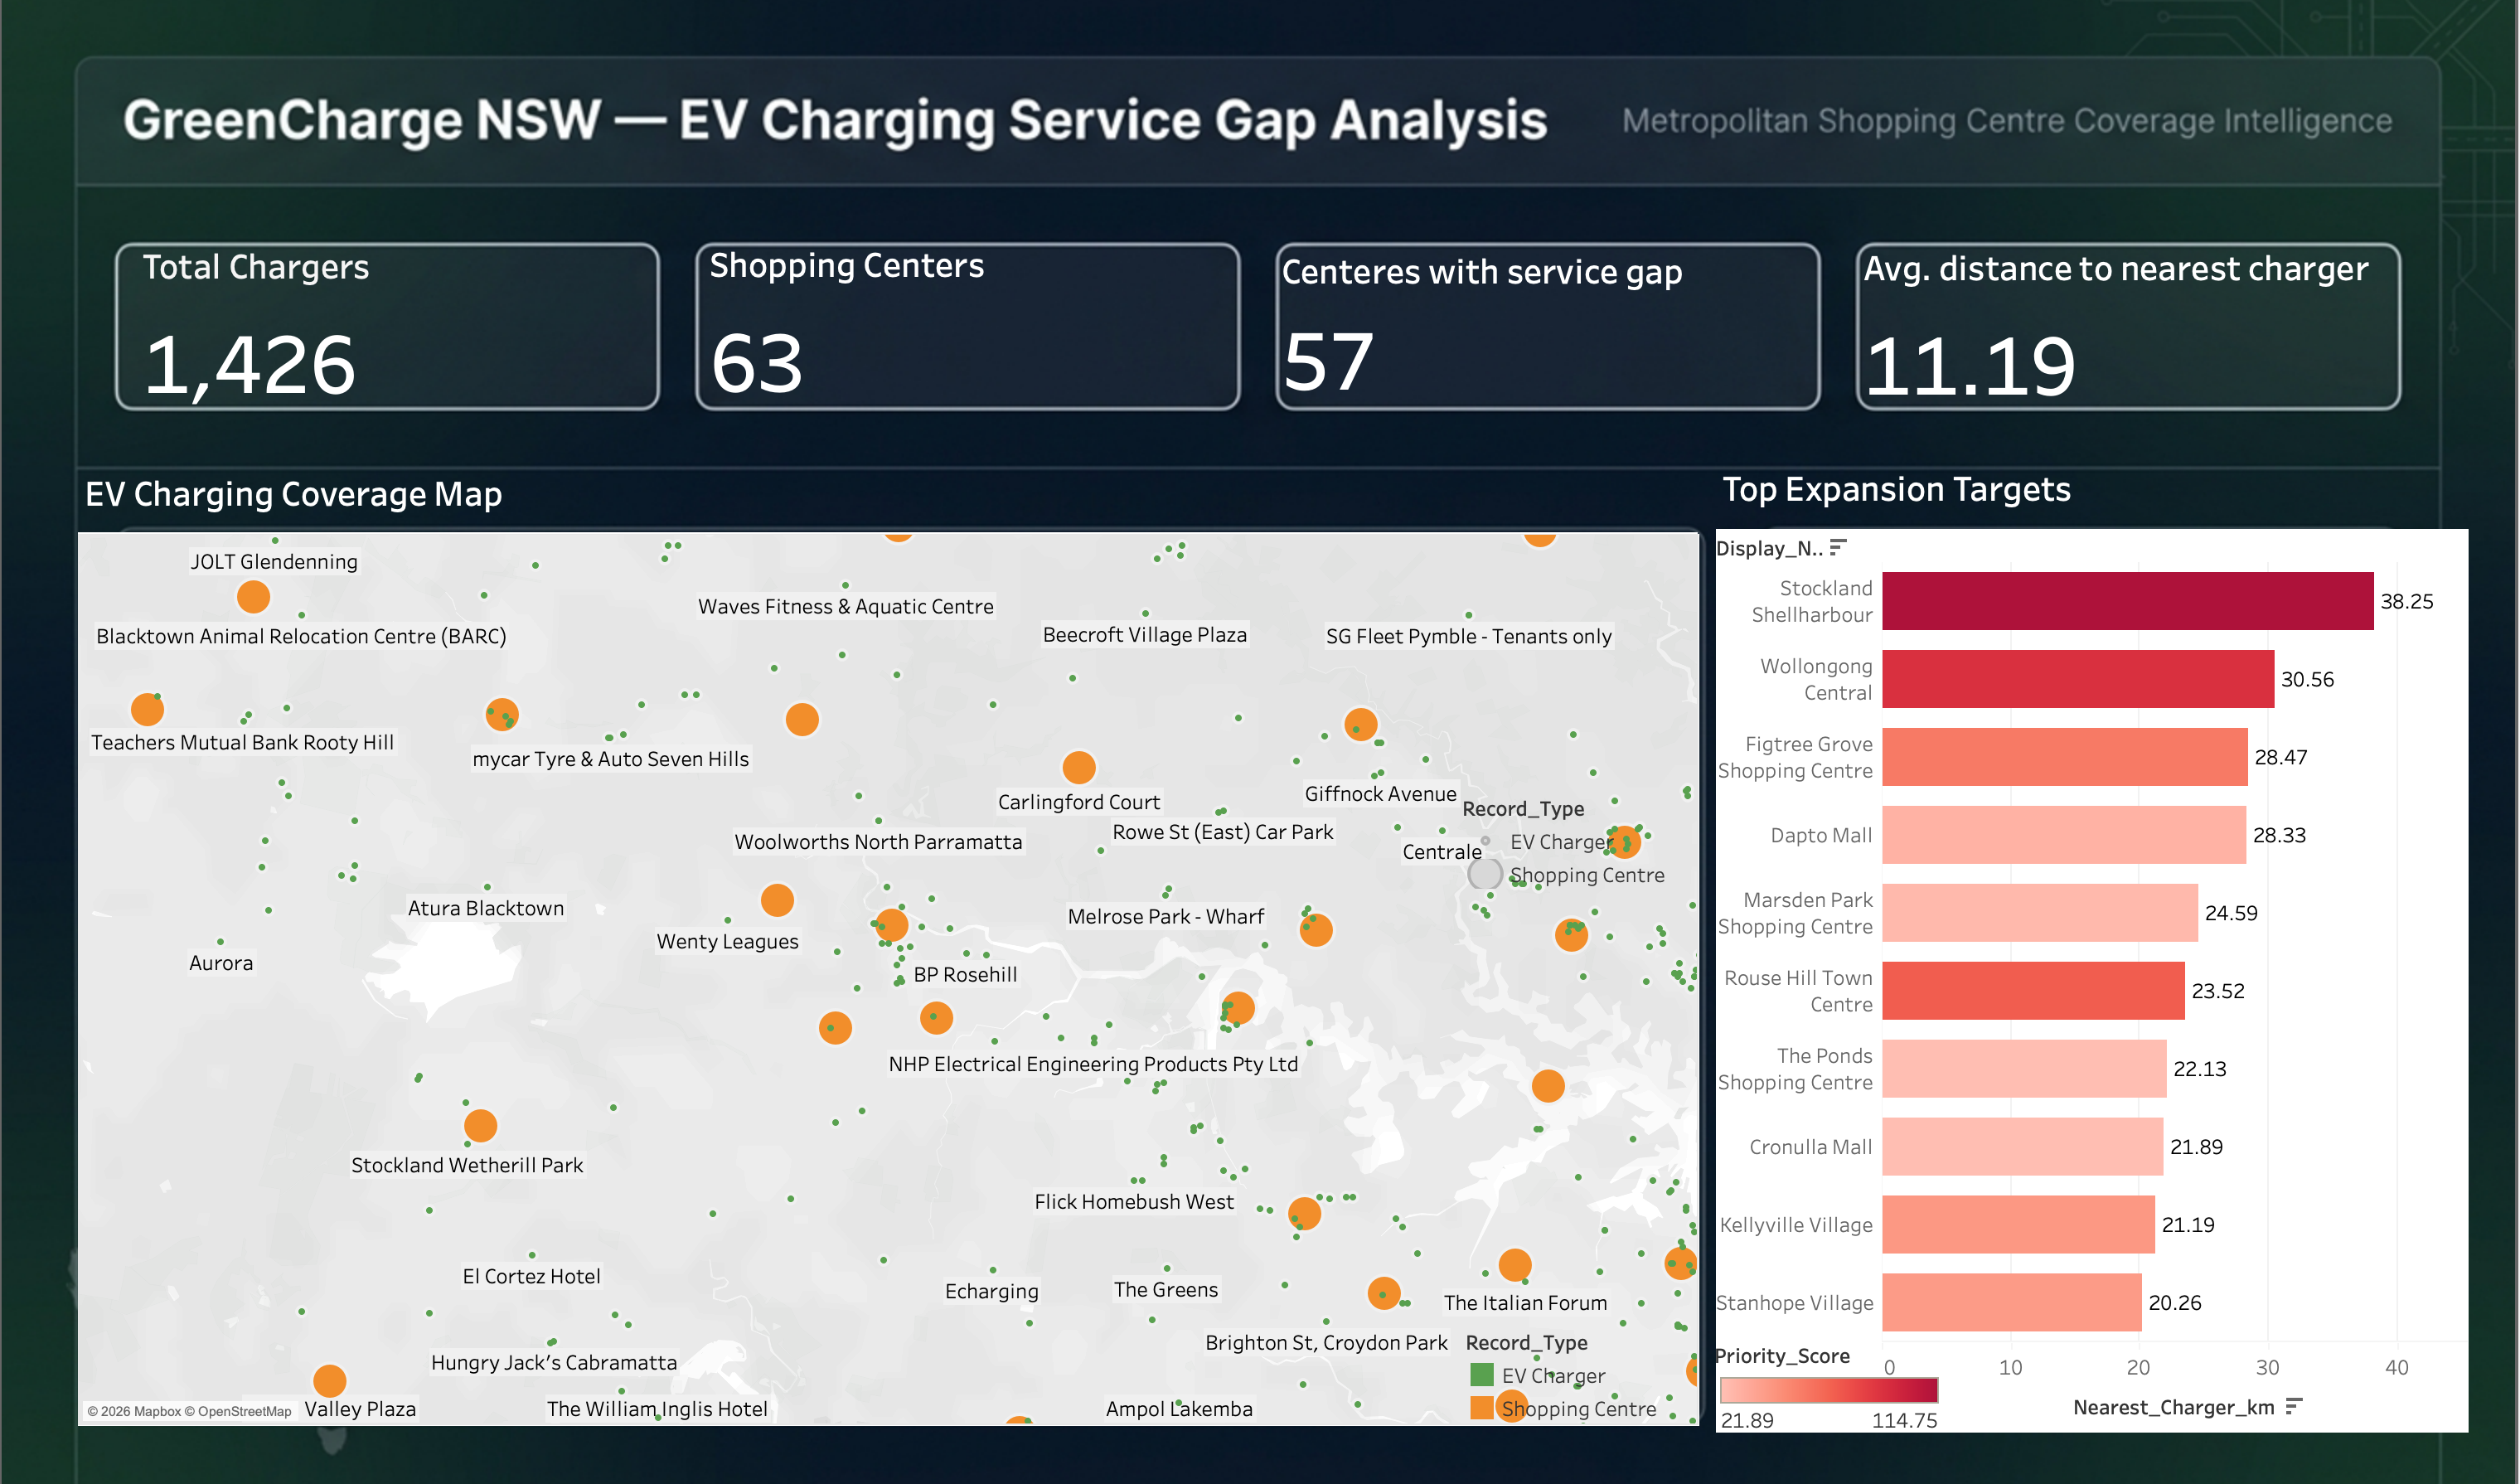

Layout of this report page (visuals, bound fields, positions):
{"tool":"tableau","page":{"name":"Dashboard 1","canvas":[1200,3000],"ordinal":0},"visuals":[{"type":"worksheet","title":"KPI 2- Shopping Centers","mark":"Automatic","box":[426,184,400,118]},{"type":"worksheet","title":" KPI 1- Total Chargers","mark":"Text","box":[84,185,289,112]},{"type":"worksheet","title":"KPI 3 — Centres with Service Gap","mark":"Automatic","box":[771,188,400,99]},{"type":"worksheet","title":"EV Charging Coverage Map","mark":"Automatic","rows":["Latitude"],"cols":["Longitude"],"box":[49,322,978,581]},{"type":"legend","title":"EV Charging Coverage Map","param":"[federated.003h3s807wdmf31c0erkj0inqo3i].[none:Calculation_0135737590673409:nk]","box":[884,522,140,58]},{"type":"legend","title":"EV Charging Coverage Map","param":"[federated.003h3s807wdmf31c0erkj0inqo3i].[none:Calculation_0135737590673409:nk]","box":[886,844,140,58]},{"type":"legend","title":"Top Expansion Targets","param":"[federated.003h3s807wdmf31c0erkj0inqo3i].[sum:Calculation_0135737590755330:qk]","box":[1036,852,140,70]}]}

Visuals, with their boxes on the page's 1200x3000 design canvas (x1, y1, x2, y2). These are canvas units, not pixel positions in the 2520x1484 screenshot, which may show the page scaled, cropped or inside an application window:
"KPI 2- Shopping Centers" worksheet: box(426, 184, 826, 302)
" KPI 1- Total Chargers" worksheet (Text marks): box(84, 185, 373, 297)
"KPI 3 — Centres with Service Gap" worksheet: box(771, 188, 1171, 287)
"EV Charging Coverage Map" worksheet: box(49, 322, 1027, 903)
"EV Charging Coverage Map" legend: box(884, 522, 1024, 580)
"EV Charging Coverage Map" legend: box(886, 844, 1026, 902)
"Top Expansion Targets" legend: box(1036, 852, 1176, 922)
